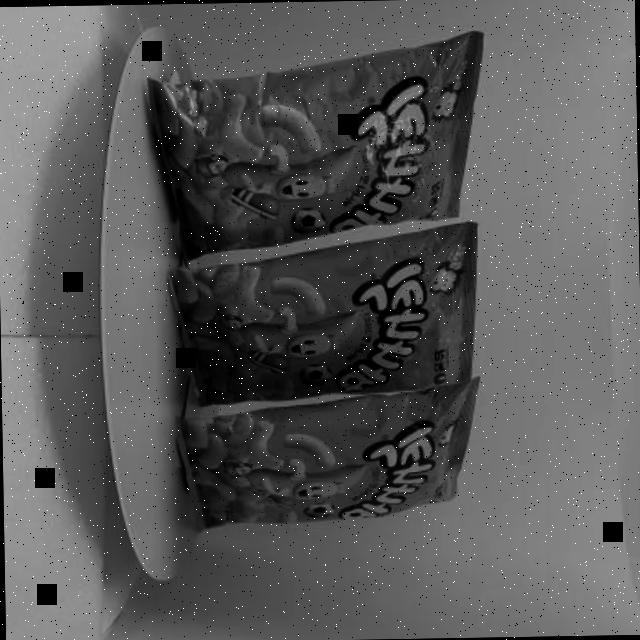snack_bag: (132, 18, 502, 540)
